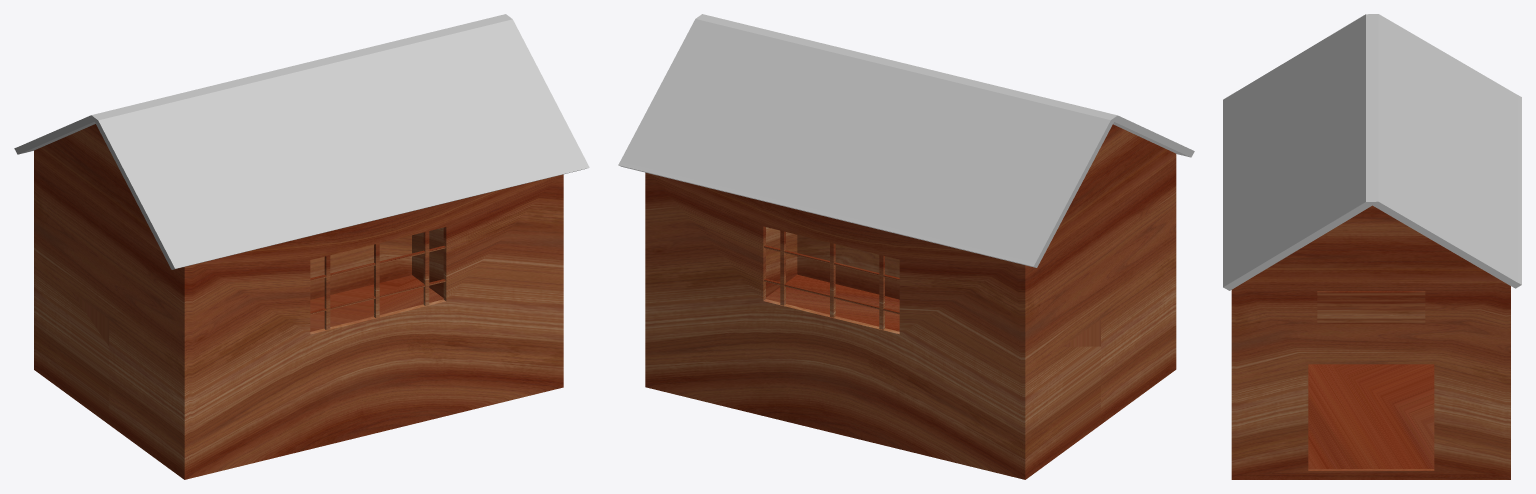
The model's file is DogHouse.obj.
3 renders of one model, left to right at view 1: azimuth 30°, elevation 25°; view 2: azimuth 150°, elevation 25°; view 3: azimuth 270°, elevation 25°, orthographic. The views are drawn at different scales.
Parts seen in each view (by area): view 1: pCube3, pCube4; view 2: pCube3, pCube4; view 3: pCube3, pCube4, pCube5.
Part boxes in pixels (box(x1,y1,x2,y2)): pCube3: box(34, 124, 563, 479); pCube4: box(14, 14, 589, 269); pCube3: box(645, 124, 1176, 479); pCube4: box(618, 14, 1194, 267); pCube3: box(1231, 205, 1510, 479); pCube4: box(1223, 14, 1521, 290); pCube5: box(1317, 291, 1425, 323).
Size of the model in its own units: 1.59 by 1.14 by 1.07.
